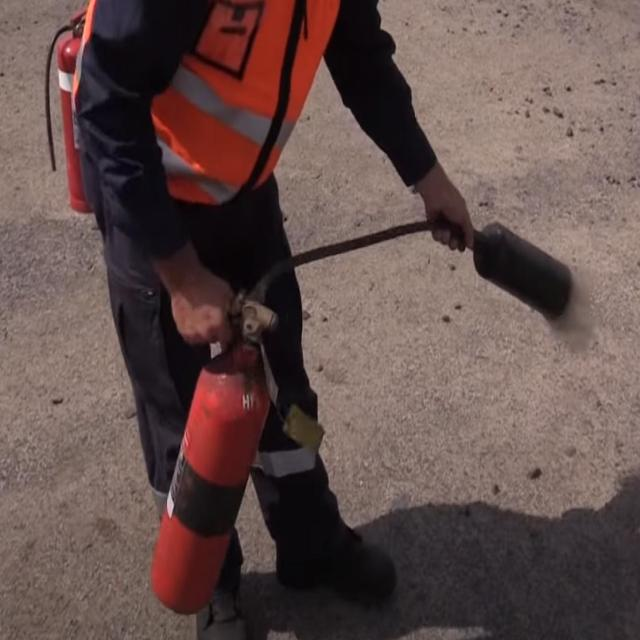fire_extinguisher: (150, 209, 576, 620), (42, 3, 119, 220)
